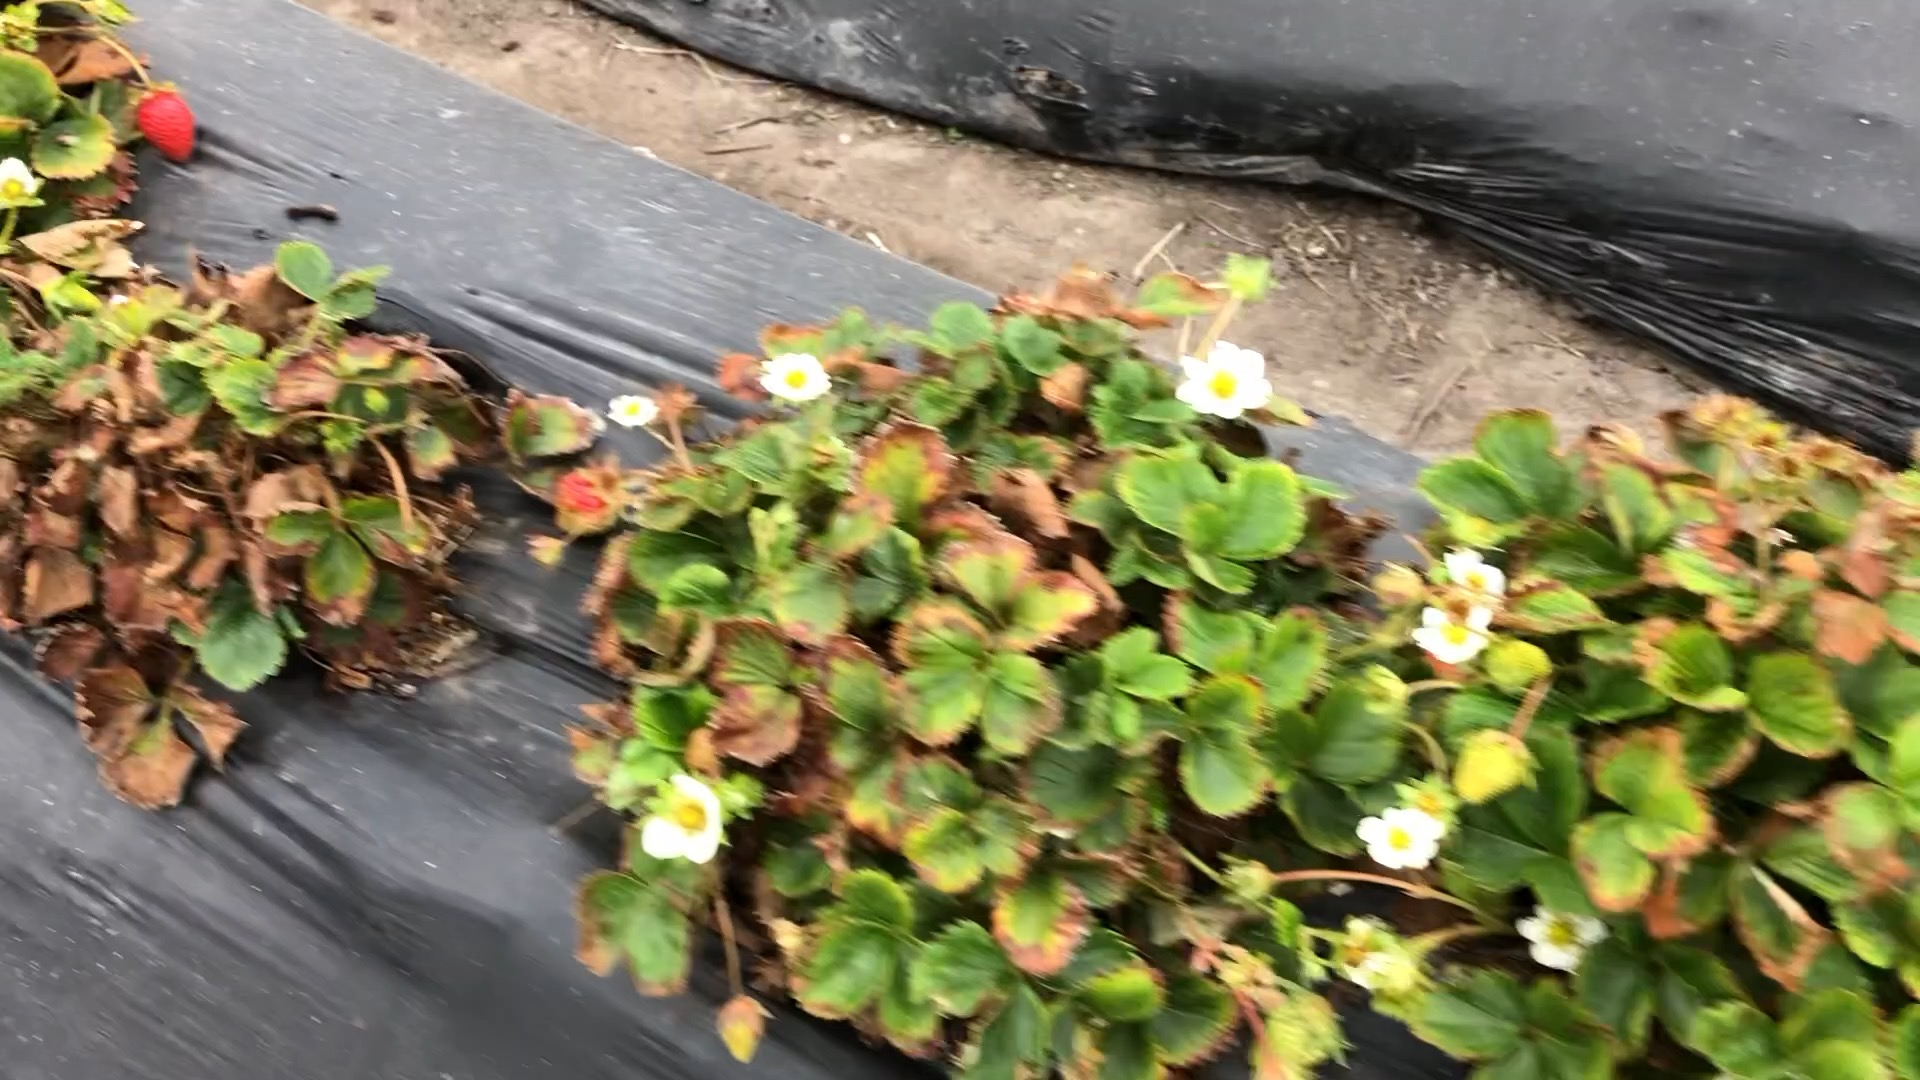ripe_strawberry: (135, 83, 199, 170)
unripe_strawberry: (1451, 728, 1535, 804), (1481, 632, 1557, 696), (717, 996, 766, 1065)
